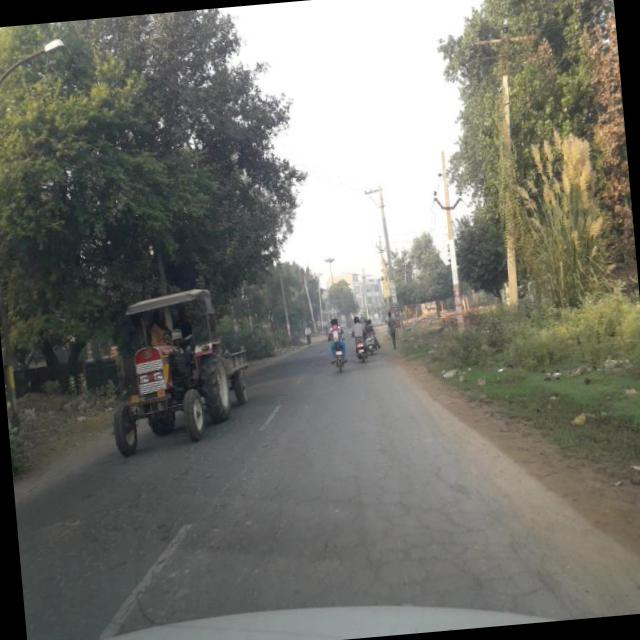crack: (315, 412, 559, 594), (34, 445, 194, 610)
